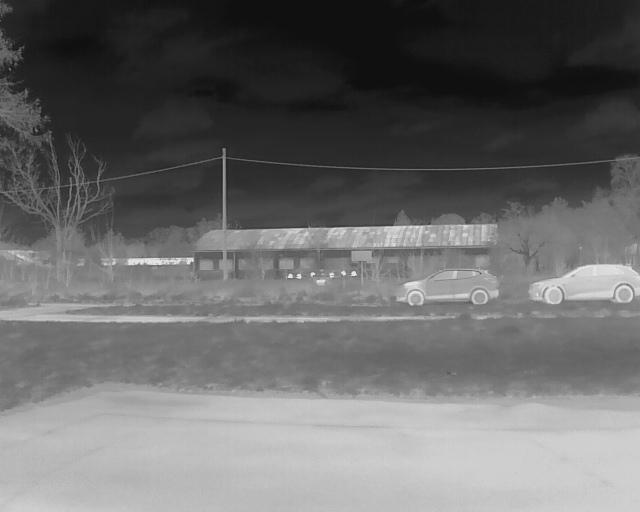drone: (268, 238, 369, 310)
